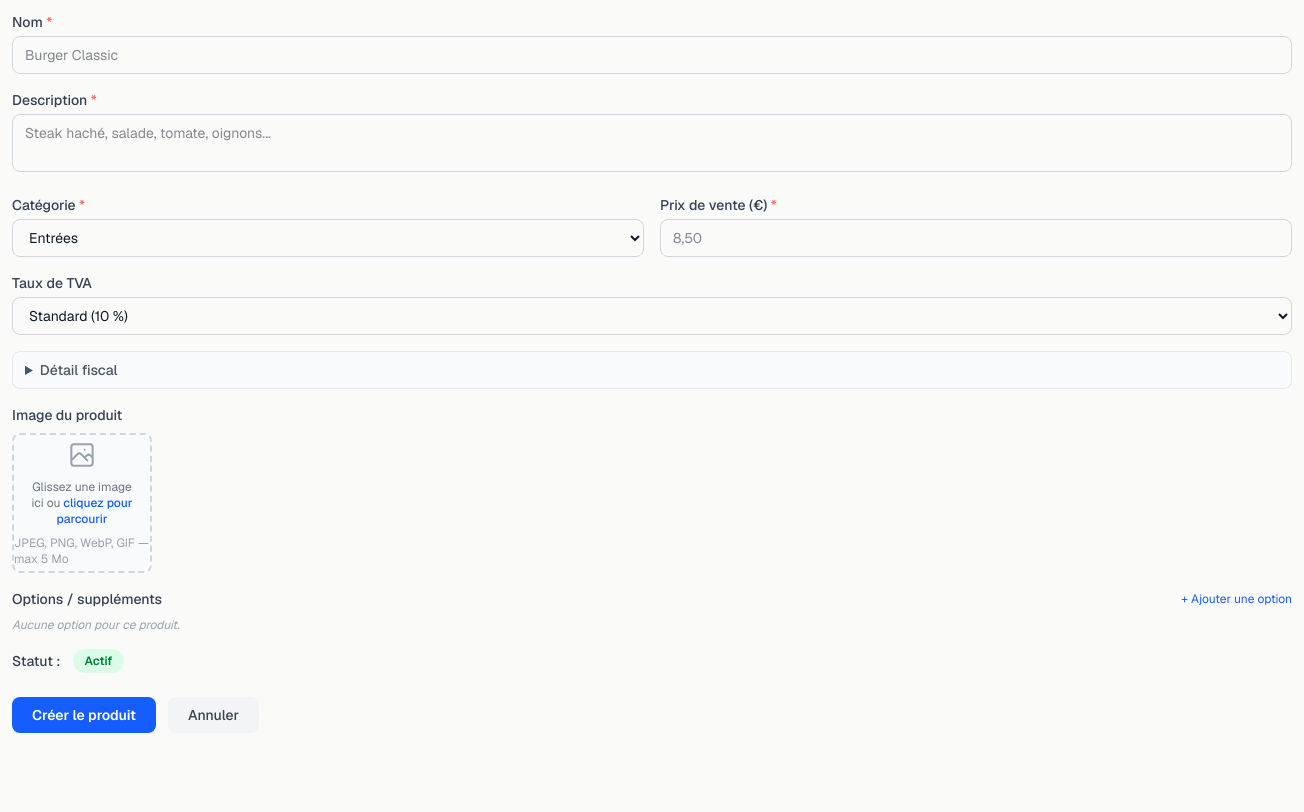
ProduitForm › toggle statut → bascule entre "Actif" et "Inactif"
What coordinates should you click on to do the following:
click the button "Actif"
I would click on:
 (98, 661)
Its box is [73, 649, 124, 673].
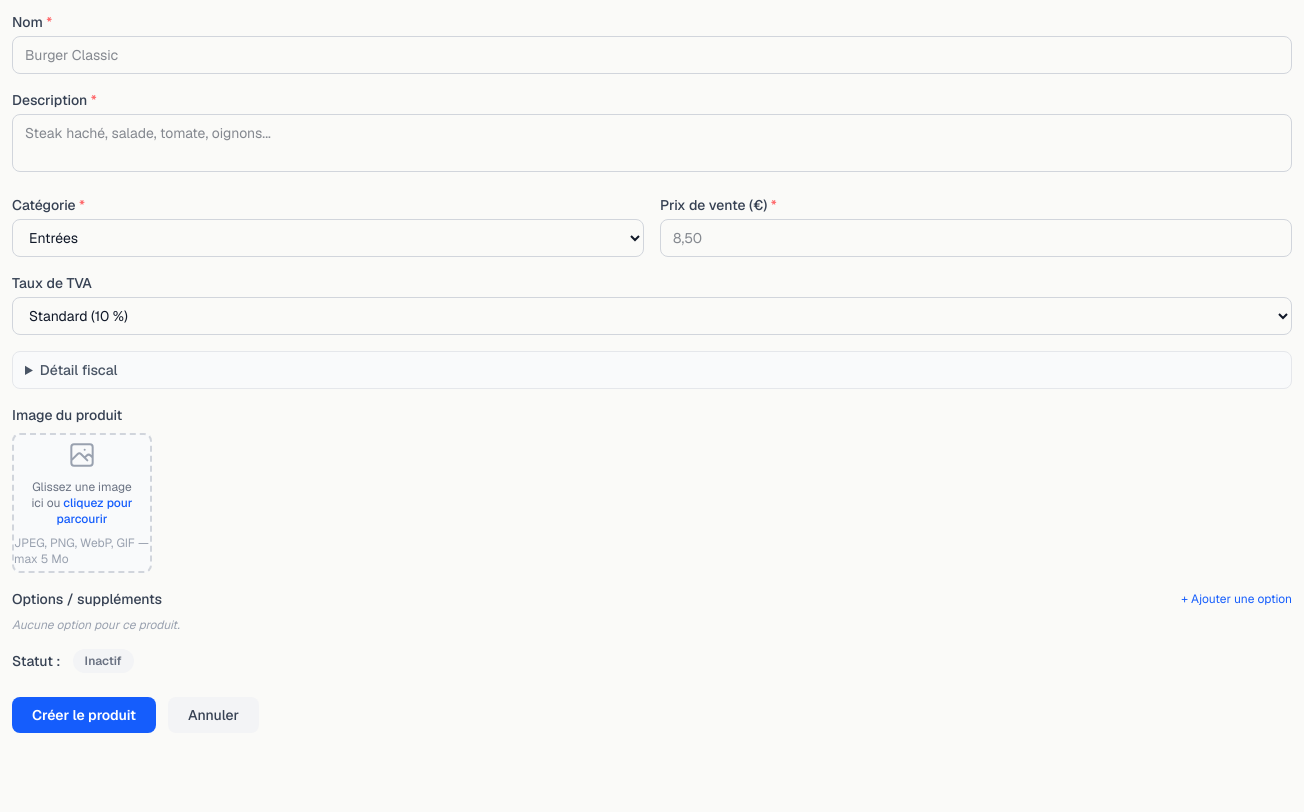
Expected: the button "Inactif" is shown
What coordinates should you click on to do the following:
click the button "Inactif"
I would click on:
 (103, 661)
Its box is [73, 649, 134, 673].
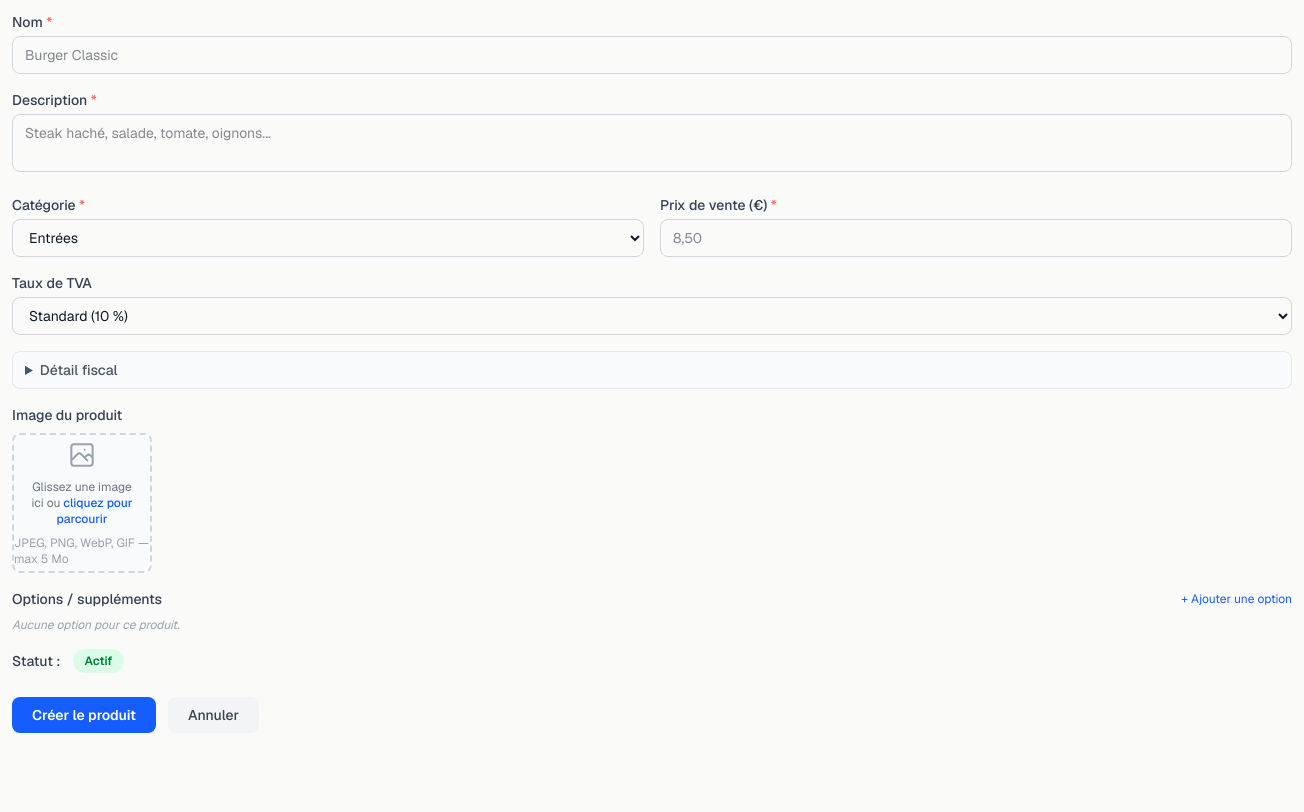
Expected: the button "Actif" is shown, [73, 649, 124, 673]
